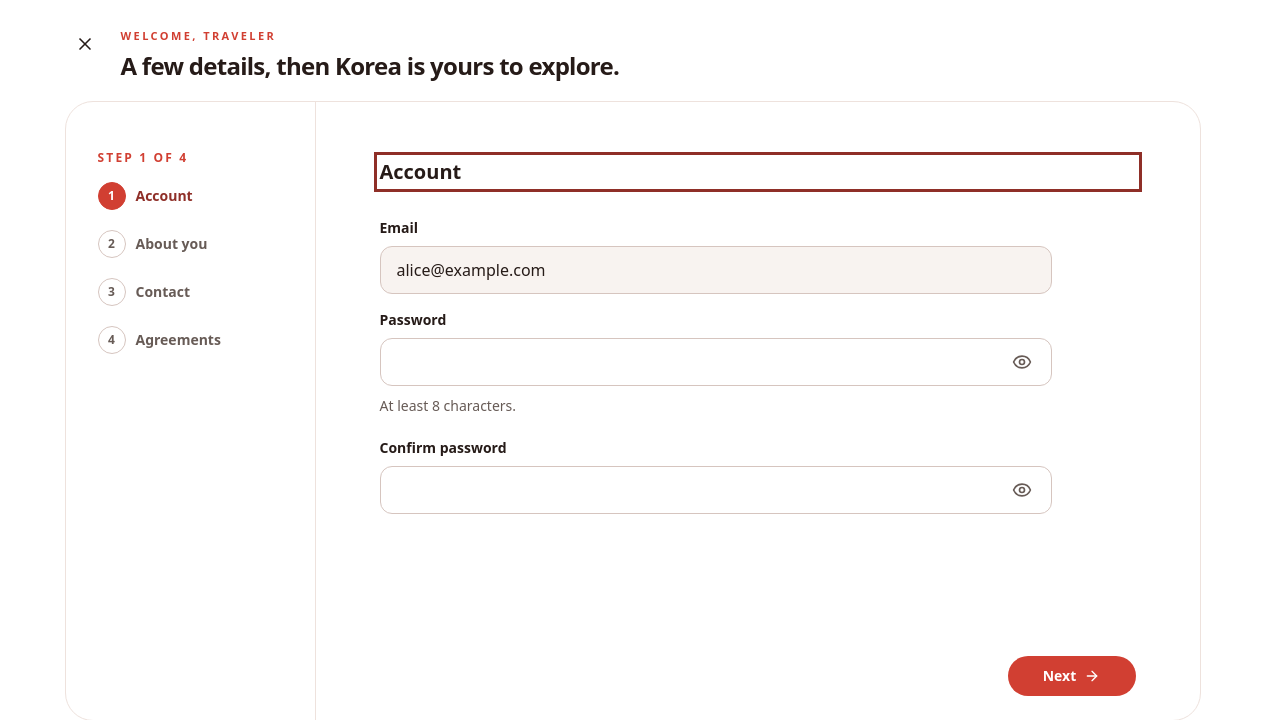
Test: OnboardingForm › starts restored email drafts at credentials without persisting a password
Expected: the navigation bar "Step 1 of 4" is shown, [66,102,316,719]
In the password field labelled "Password": (716, 362) [380,338,1052,386], type "abcdefgh"
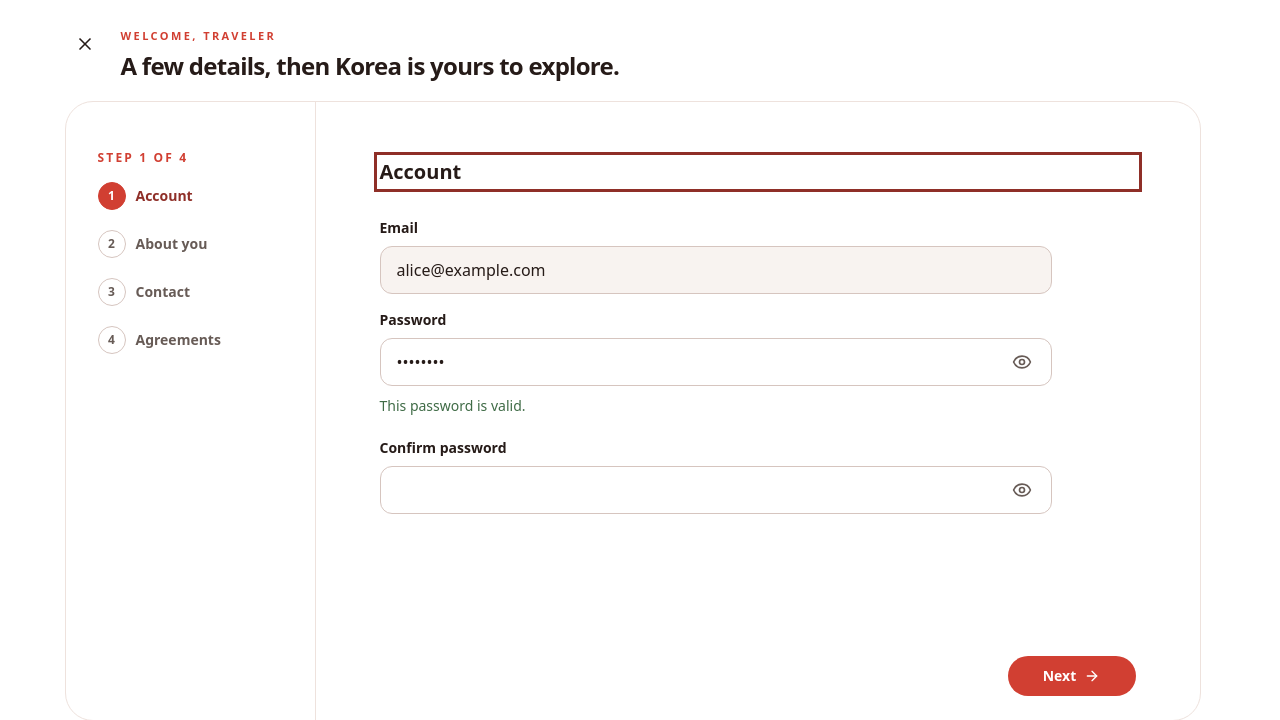
In the password field labelled "Confirm password": (716, 490) [380,466,1052,514], type "abcdefgh"
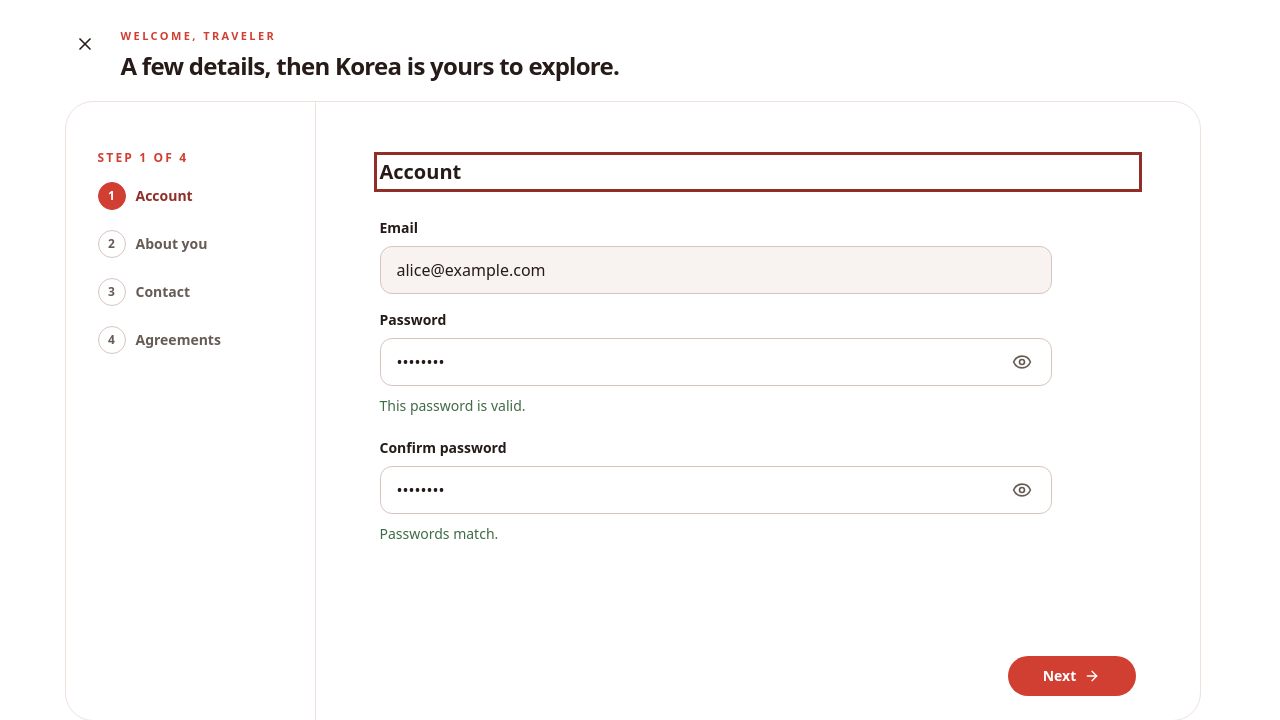
Click the button "Next": (1072, 676) [1008,656,1136,696]
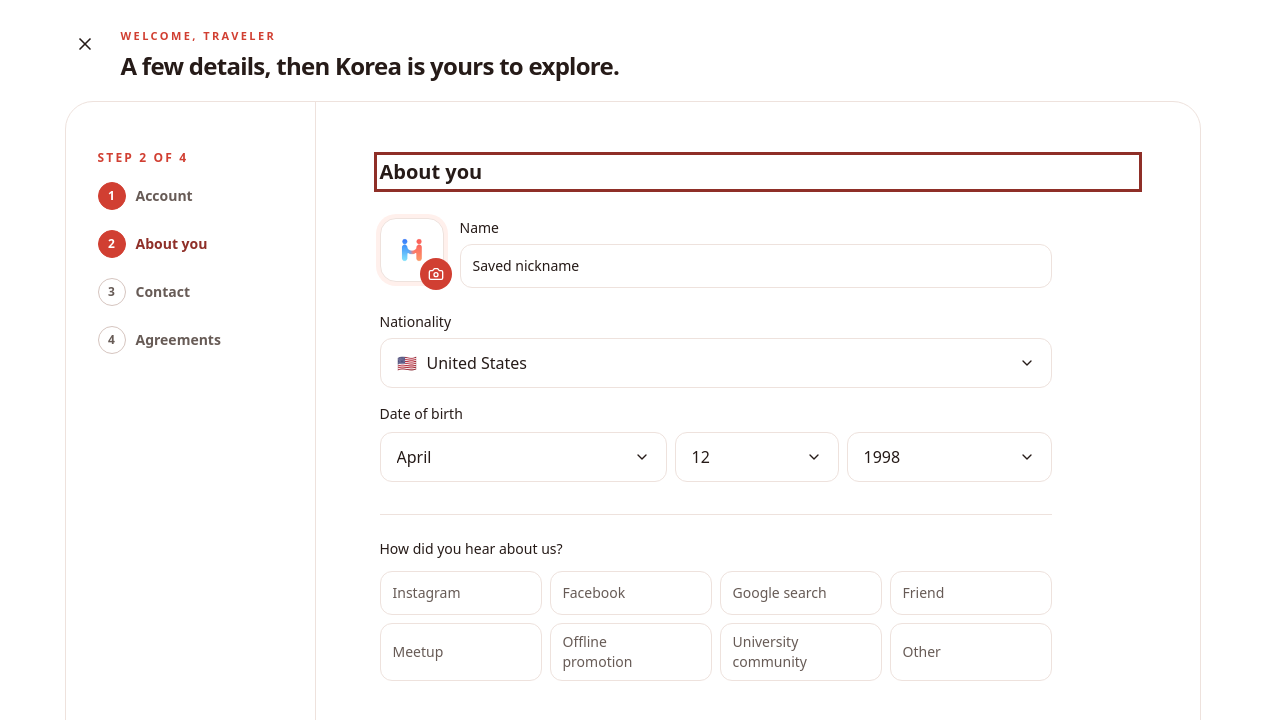
Now the field labelled "Name" holds "Saved nickname", box [460,244,1052,288]
